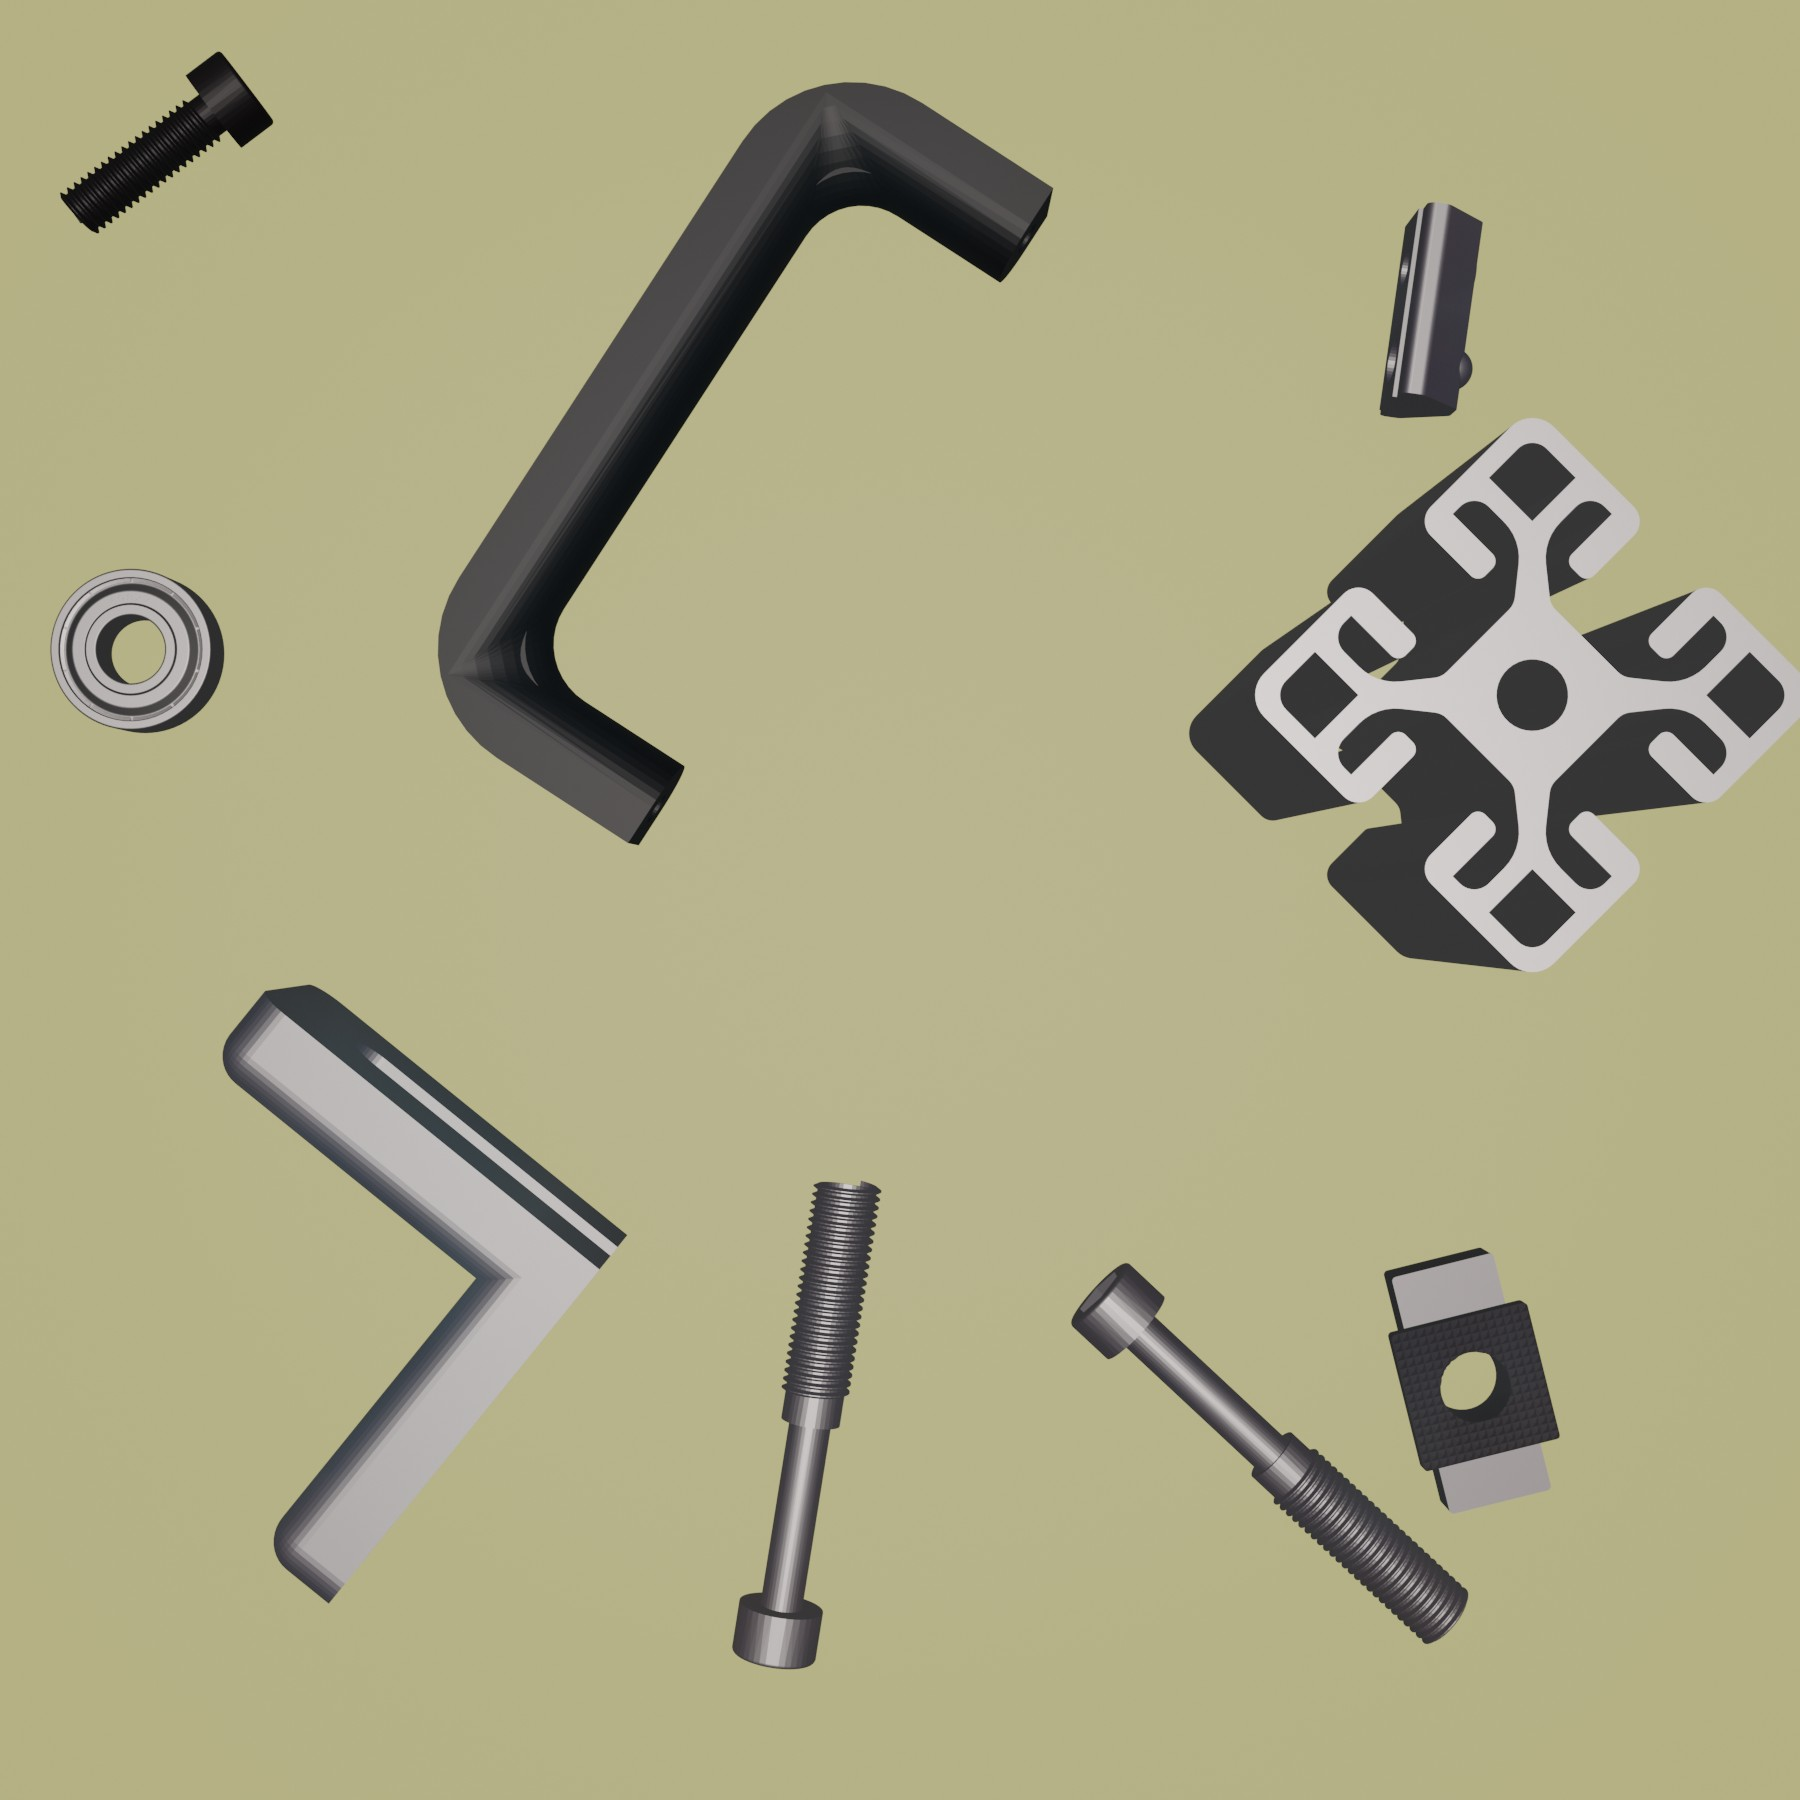Aluminium Extension: (1187, 415, 1800, 977)
Ball Bearing: (48, 564, 227, 737)
Multiwinkel: (218, 981, 630, 1609)
Pull Handle: (435, 77, 1057, 847)
Shoulder Socket Head Cap Screw: (1071, 1263, 1470, 1647), (729, 1174, 884, 1673)
Socket Head Cap Screw: (56, 41, 277, 239)
T Nut Square: (1380, 1241, 1563, 1518)
T Spring Nut: (1378, 198, 1487, 420)
